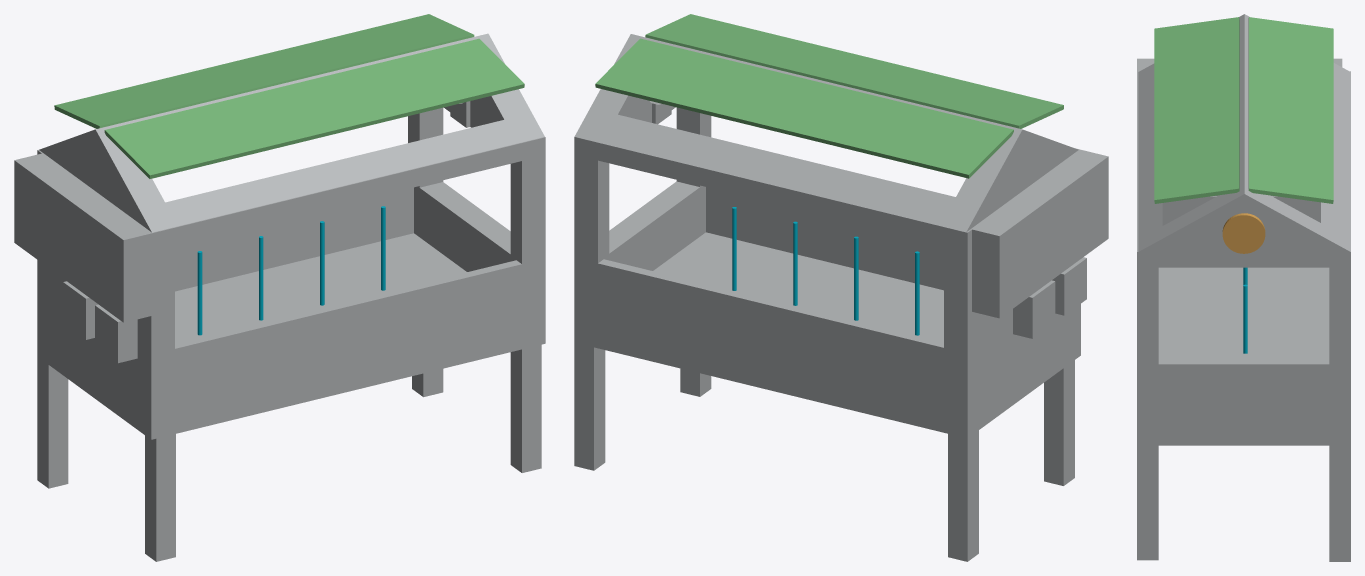
Rendered from invernadero-automatizado.glb.
The picture shows the model from 3 angles, left to right: view 1: azimuth 30°, elevation 25°; view 2: azimuth 150°, elevation 25°; view 3: azimuth 270°, elevation 25°; orthographic projection. The views are drawn at different scales.
Visible parts, largest first — view 1: Mesh_Mesh_head_geo.001_lambert2SG.001; view 2: Mesh_Mesh_head_geo.001_lambert2SG.001; view 3: Mesh_Mesh_head_geo.001_lambert2SG.001.
Part boxes in pixels (bbox=[...]): Mesh_Mesh_head_geo.001_lambert2SG.001: bbox=[14, 14, 545, 561]; Mesh_Mesh_head_geo.001_lambert2SG.001: bbox=[574, 14, 1108, 561]; Mesh_Mesh_head_geo.001_lambert2SG.001: bbox=[1137, 14, 1350, 561].
Bounding box in the file's own units: 0.108 × 0.095 × 0.05.
